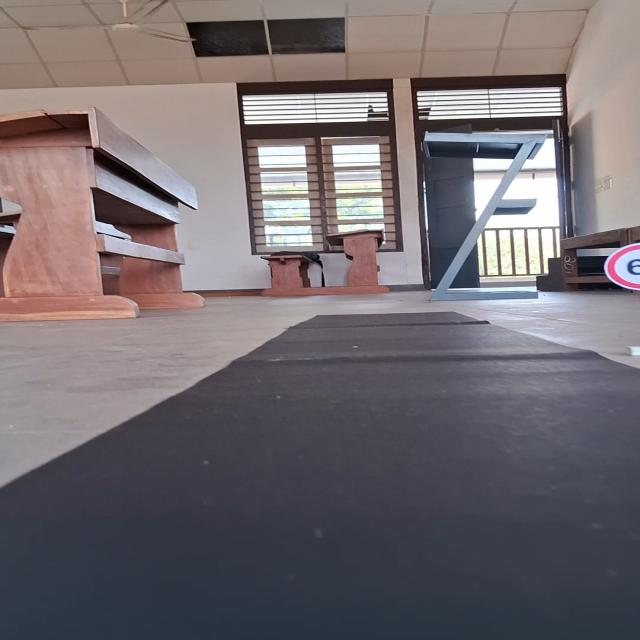Speed60: (601, 239, 640, 293)
